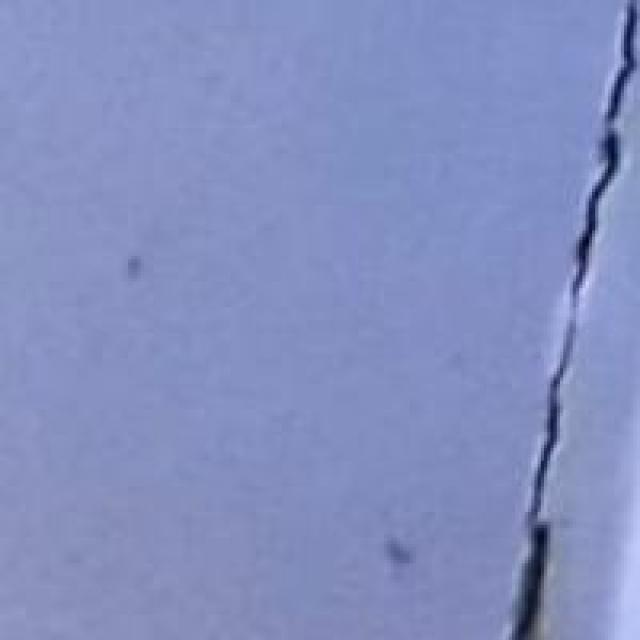Crack: (451, 0, 637, 637)
